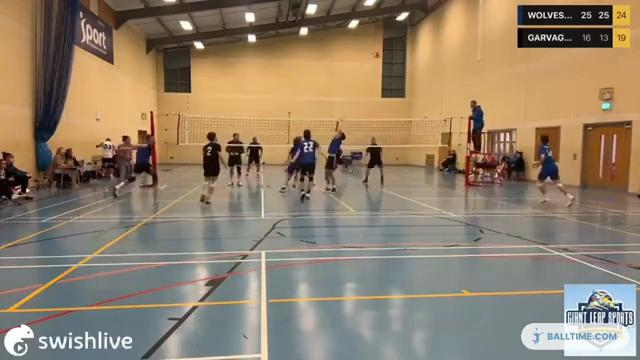Player: (534, 135, 574, 206), (291, 129, 319, 201), (200, 132, 226, 204), (325, 130, 345, 192), (280, 136, 301, 192), (226, 133, 244, 186), (363, 138, 383, 184), (134, 135, 152, 185), (246, 137, 263, 178)
Set: (321, 113, 346, 195)
ball: (373, 51, 380, 58)
